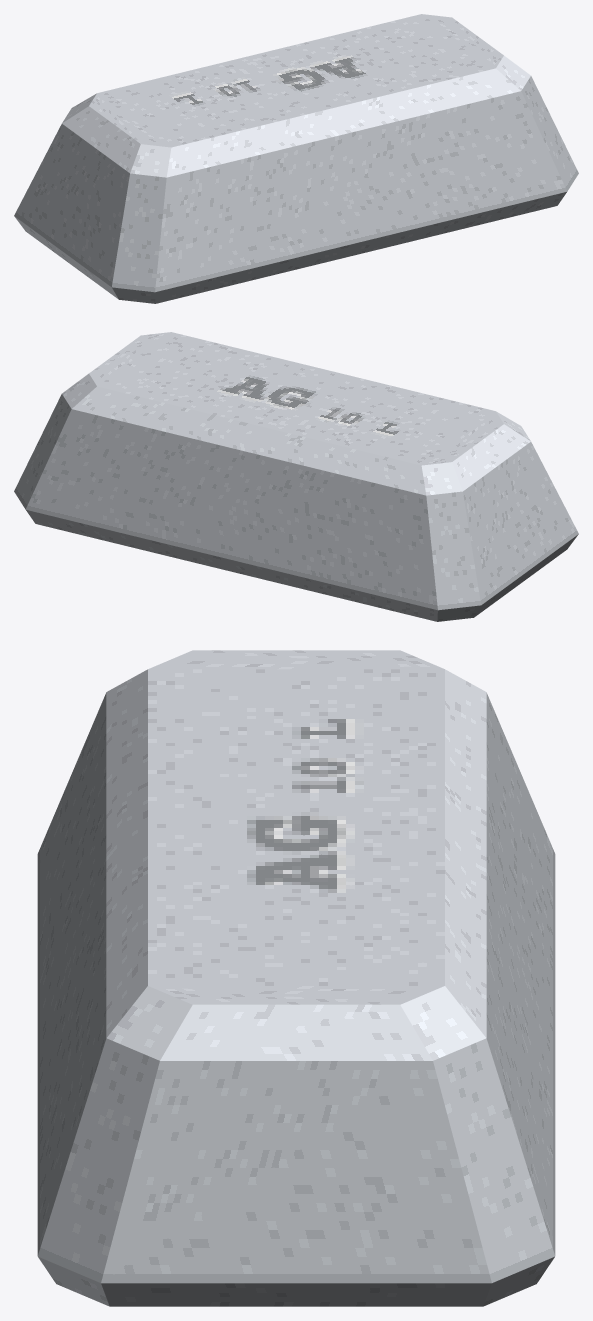
File: 10l_silver.glb
3 renders of one model, top to bottom at view 1: azimuth 30°, elevation 25°; view 2: azimuth 150°, elevation 25°; view 3: azimuth 270°, elevation 25°, orthographic. The views are drawn at different scales.
Visible parts, largest first — view 1: block_one-piece cast ingot; view 2: block_one-piece cast ingot; view 3: block_one-piece cast ingot.
Part boxes in pixels (x1,y1,x2,y2): block_one-piece cast ingot: [14, 14, 578, 303]; block_one-piece cast ingot: [14, 332, 578, 621]; block_one-piece cast ingot: [37, 650, 555, 1306].
Bounding box in the file's own units: 0.39 × 0.1038 × 0.1871.
1 material, 1 textured.
